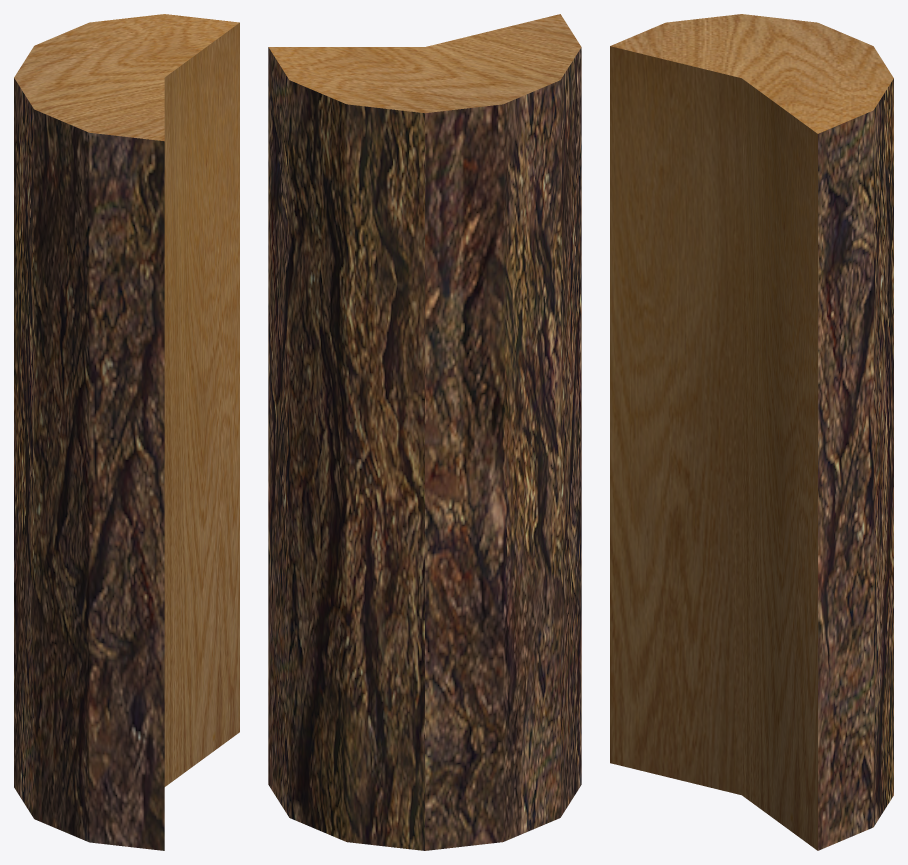
File: ChoppedWoodFBX.fbx
3 views of the same model, side by side, from view 1: azimuth 30°, elevation 25°; view 2: azimuth 150°, elevation 25°; view 3: azimuth 270°, elevation 25° (orthographic). The views are drawn at different scales.
Parts seen in each view (by area): view 1: pCylinder1; view 2: pCylinder1; view 3: pCylinder1.
Boxes of the visible parts, bbox=[...] form: pCylinder1: bbox=[14, 14, 239, 850]; pCylinder1: bbox=[268, 14, 581, 850]; pCylinder1: bbox=[610, 14, 893, 850].
Bounding box in the file's own units: 0.933 × 2.6 × 0.933.
